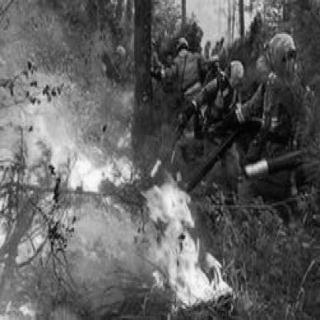Fire: (0, 54, 230, 310)
